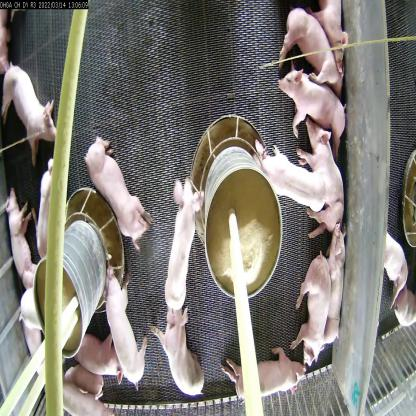Pig: (80, 124, 158, 252), (276, 62, 350, 170), (94, 266, 153, 394), (249, 134, 328, 219), (280, 8, 347, 108), (0, 58, 61, 162), (298, 120, 345, 242), (215, 342, 310, 401), (162, 174, 202, 310), (153, 304, 209, 400), (49, 355, 121, 415), (32, 154, 71, 262), (3, 186, 42, 293), (294, 252, 329, 368), (308, 0, 352, 76), (378, 212, 406, 312), (325, 224, 347, 344), (75, 332, 124, 385), (19, 287, 57, 334)
